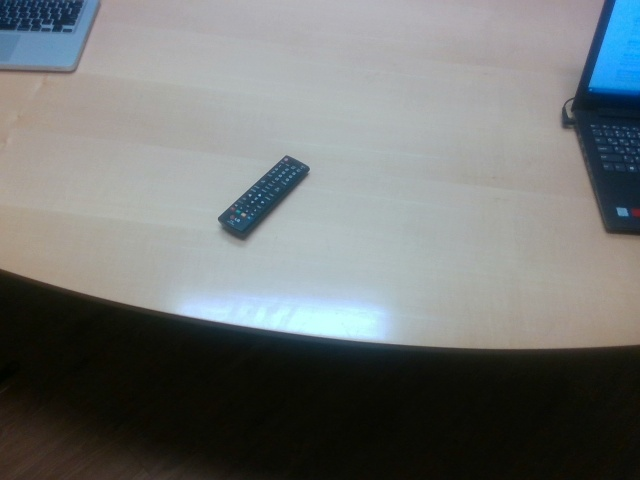remote: (216, 153, 310, 240)
